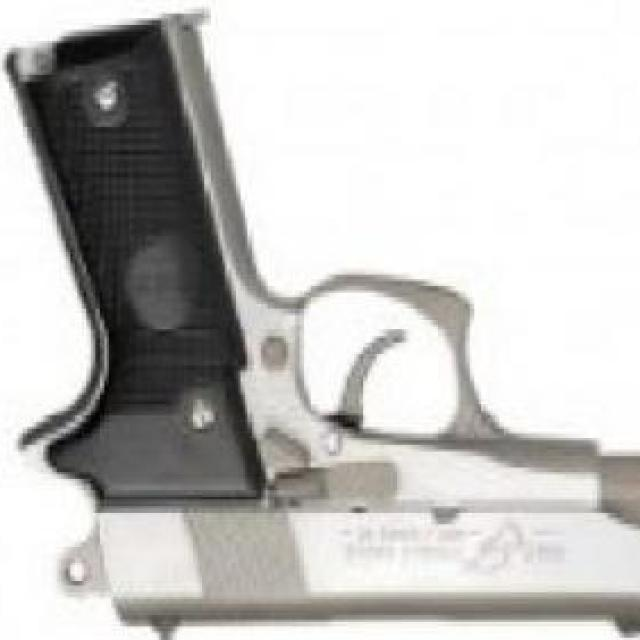pistol: (16, 25, 640, 640)
